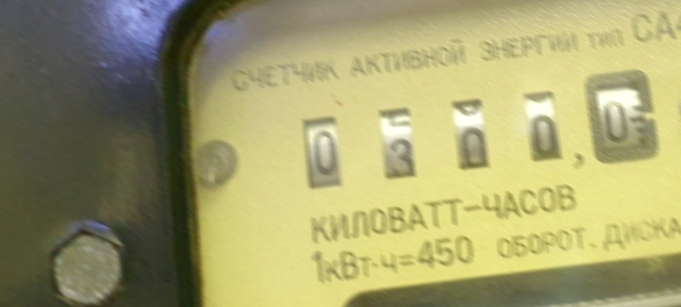0: (308, 125, 340, 179), (455, 121, 488, 172), (598, 96, 631, 147), (525, 111, 559, 160)
3: (384, 133, 417, 179)
screen: (278, 60, 669, 211)
